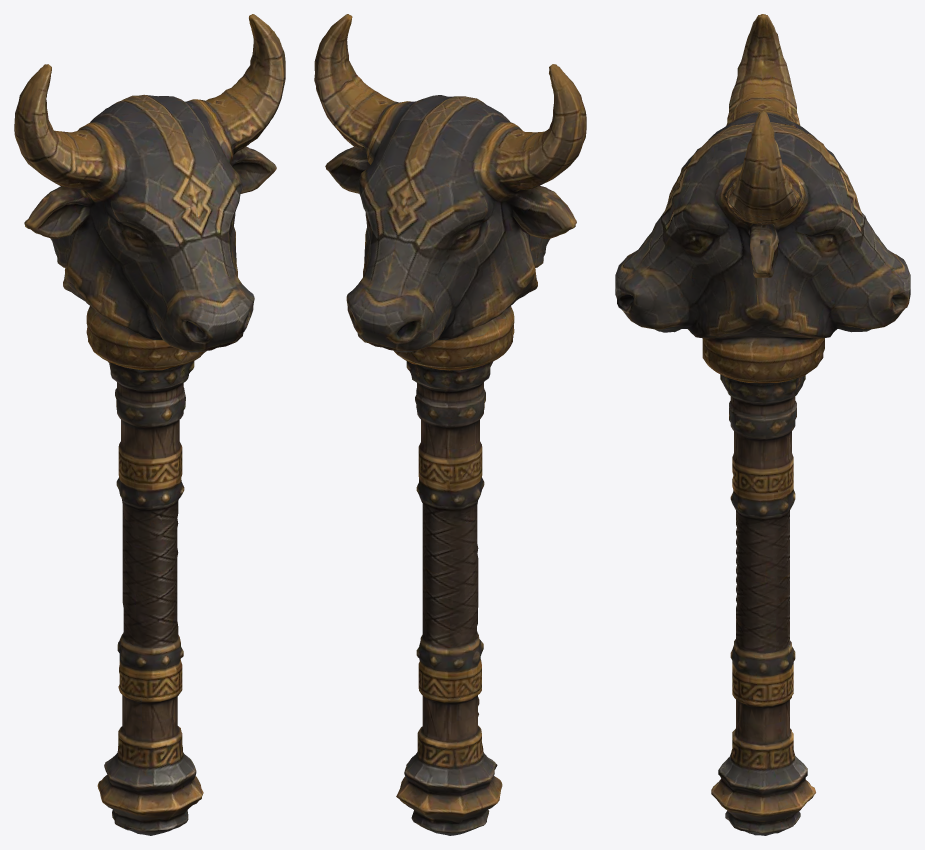
The model's file is Gorz.glb.
3 views of the same model, side by side, from view 1: azimuth 30°, elevation 25°; view 2: azimuth 150°, elevation 25°; view 3: azimuth 270°, elevation 25° (orthographic). The views are drawn at different scales.
Size of the model in its own units: 0.694 by 2 by 0.694.
1 material, 1 textured.
